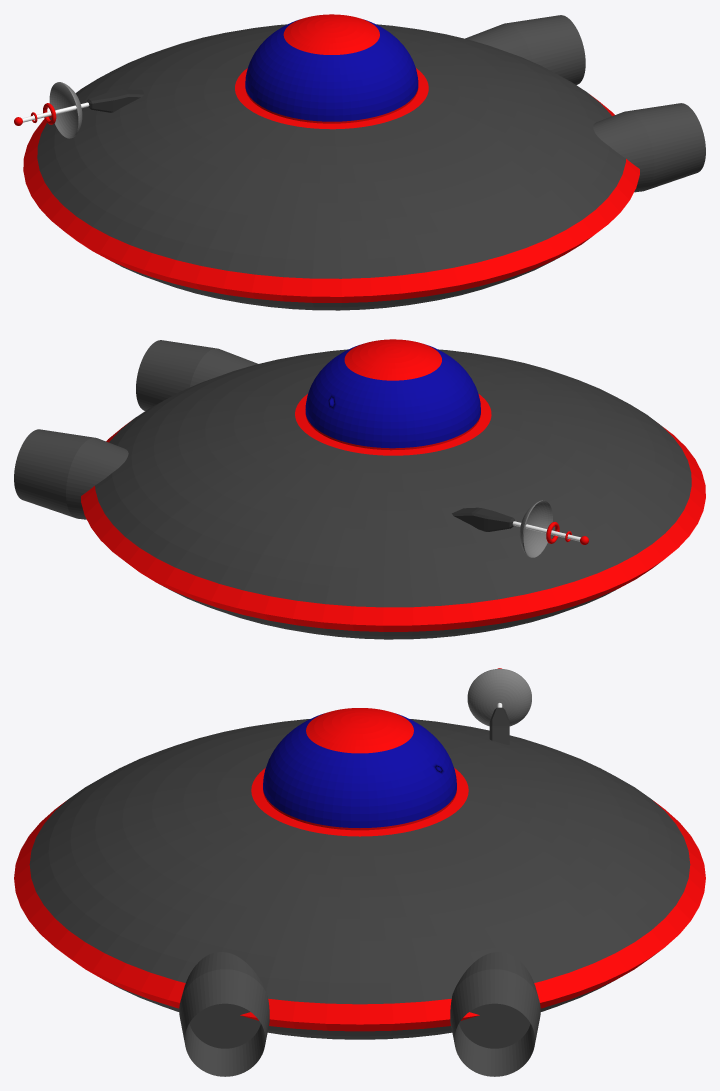
Rendered from enemy_spaceship2.fbx.
The picture shows the model from 3 angles, top to bottom: view 1: azimuth 30°, elevation 25°; view 2: azimuth 150°, elevation 25°; view 3: azimuth 270°, elevation 25°; orthographic projection. The views are drawn at different scales.
Visible parts, largest first — view 1: Sphere, Engines, Cylinder; view 2: Sphere, Engines, Cylinder; view 3: Sphere, Engines, Cylinder.
Boxes of the visible parts, x1,y1,x2,y2 form: Sphere: (23, 14, 639, 310); Engines: (465, 15, 705, 192); Cylinder: (14, 82, 144, 138); Sphere: (81, 339, 705, 639); Engines: (14, 340, 257, 519); Cylinder: (452, 500, 588, 557); Sphere: (14, 708, 705, 1039); Engines: (179, 952, 540, 1076); Cylinder: (467, 668, 531, 744).
Size of the model in its own units: 1460 by 560 by 1386.
